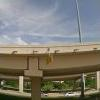Bridge: (6, 35, 95, 84)
